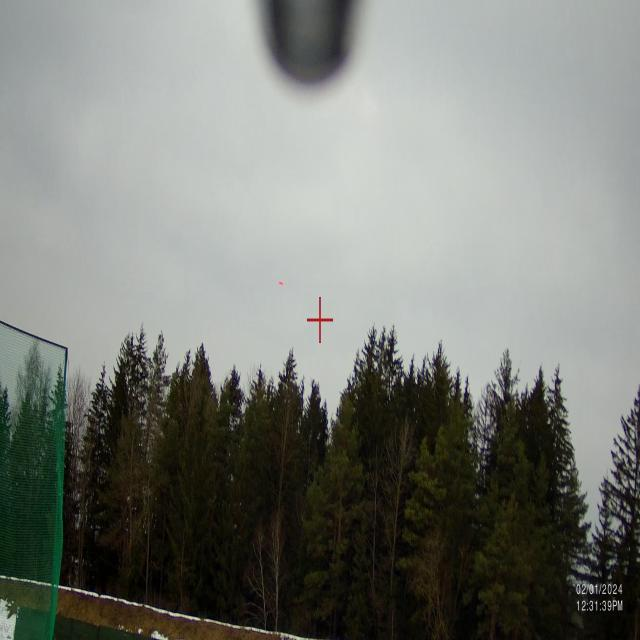entire: (276, 280, 286, 292)
